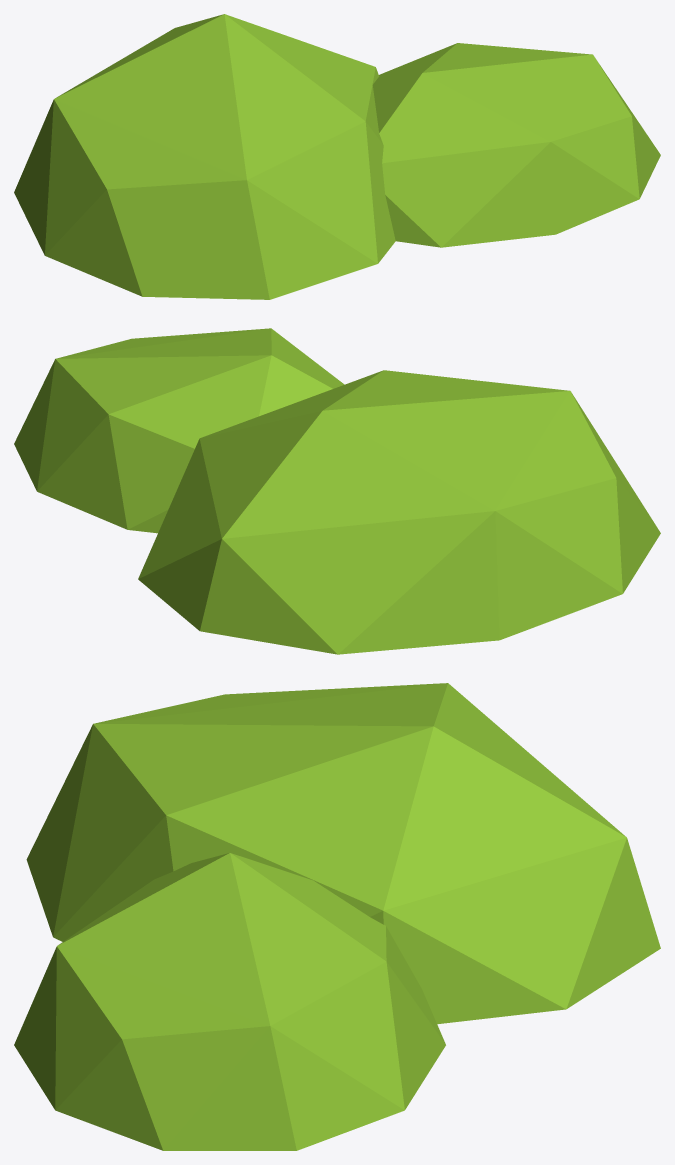
Rendered from nature grass.FBX.
3 views of the same model, one above another, from view 1: azimuth 30°, elevation 25°; view 2: azimuth 150°, elevation 25°; view 3: azimuth 270°, elevation 25° (orthographic). The views are drawn at different scales.
Visible parts, largest first — view 1: Object008; view 2: Object008; view 3: Object008.
Boxes of the visible parts, left/top/right/bottom form: Object008: left=14, top=14, right=660, bottom=299; Object008: left=14, top=328, right=660, bottom=654; Object008: left=14, top=683, right=660, bottom=1150.
Bounding box in the file's own units: 27.06 × 6.86 × 19.85.
1 material, 1 textured.
